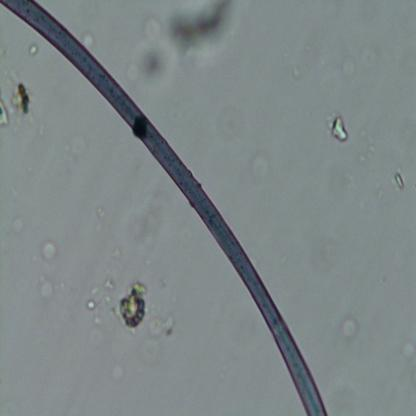Background material: (167, 1, 242, 61), (116, 278, 151, 336), (134, 41, 175, 90), (130, 191, 161, 253), (82, 277, 118, 324), (356, 128, 378, 171), (10, 79, 34, 118), (224, 111, 247, 149), (328, 112, 350, 148), (304, 249, 339, 271), (138, 13, 163, 41), (336, 50, 359, 79), (356, 38, 379, 66), (249, 152, 268, 180), (7, 216, 30, 239), (340, 316, 359, 343), (41, 236, 57, 265), (37, 278, 54, 302), (0, 98, 12, 130), (400, 338, 416, 361), (290, 60, 304, 83), (393, 170, 406, 194), (93, 204, 108, 224), (82, 30, 97, 48), (109, 246, 122, 264), (29, 44, 38, 60)
Microfibre: (0, 1, 328, 416)
